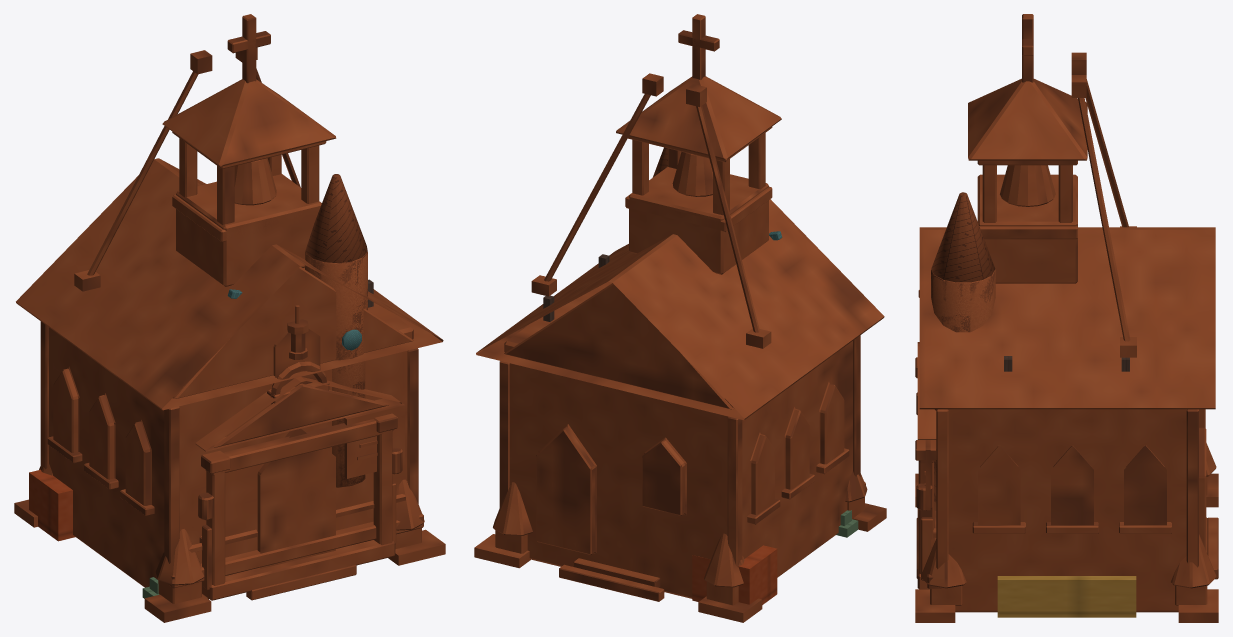
Rendered from chapel.e9.glb.
The picture shows the model from 3 angles, left to right: view 1: azimuth 30°, elevation 25°; view 2: azimuth 150°, elevation 25°; view 3: azimuth 270°, elevation 25°; orthographic projection. The views are drawn at different scales.
Parts seen in each view (by area): view 1: ChapelE9ArkYard; view 2: ChapelE9ArkYard; view 3: ChapelE9ArkYard.
Part boxes in pixels (left/top/right/bottom): ChapelE9ArkYard: left=14, top=14, right=445, bottom=622; ChapelE9ArkYard: left=474, top=14, right=886, bottom=622; ChapelE9ArkYard: left=915, top=14, right=1218, bottom=622.
Size of the model in its own units: 3.46 by 6.25 by 3.19.
Materials: 1 (1 with a texture image).
